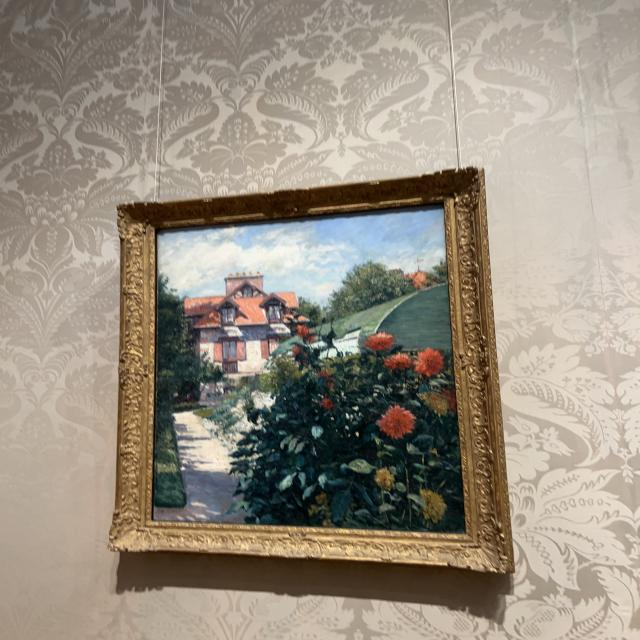summer: (152, 203, 467, 533)
